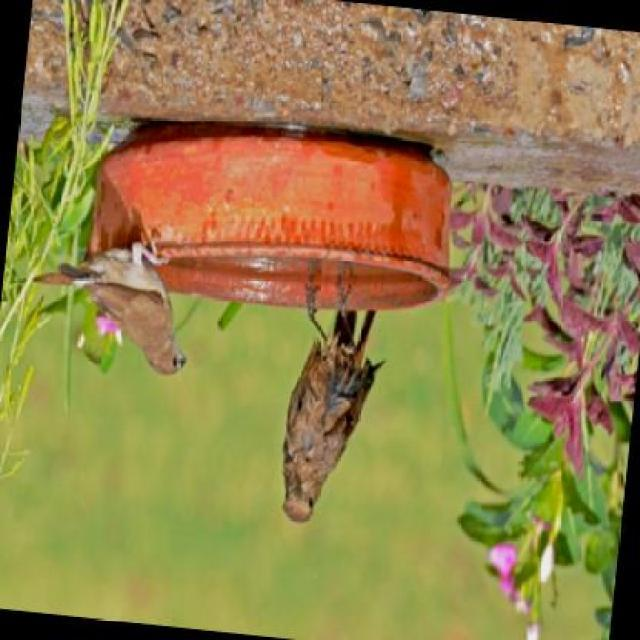Bird: (279, 309, 387, 529), (30, 249, 193, 379)
